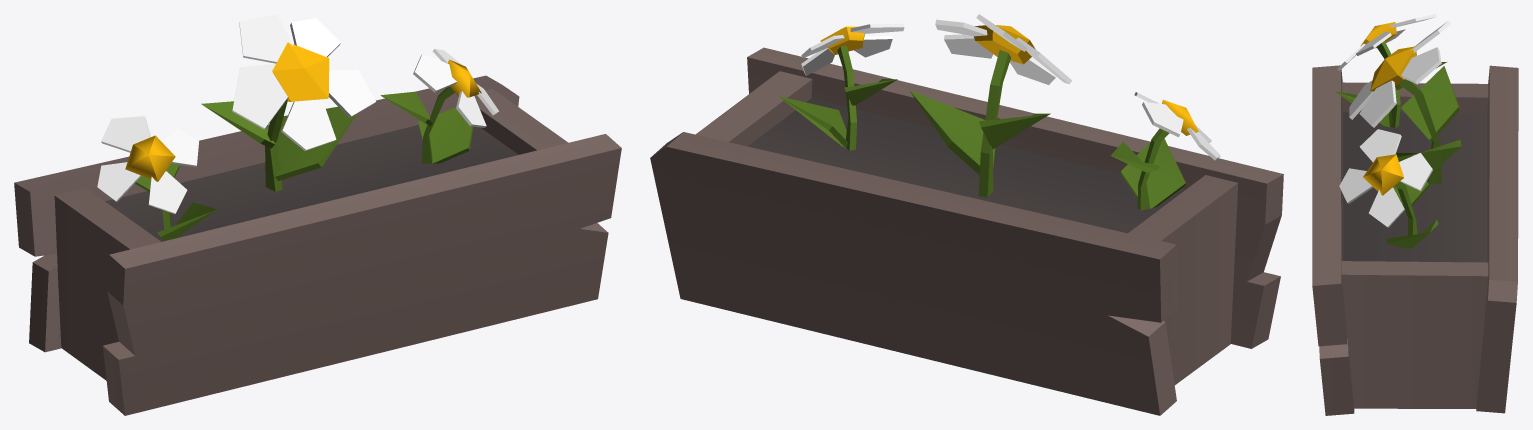
File: obj_flowers_white_d8ec0f.glb
The picture shows the model from 3 angles, left to right: view 1: azimuth 30°, elevation 25°; view 2: azimuth 150°, elevation 25°; view 3: azimuth 270°, elevation 25°; orthographic projection. The views are drawn at different scales.
Visible parts, largest first — view 1: obj_flowers_white_d8ec0f; view 2: obj_flowers_white_d8ec0f; view 3: obj_flowers_white_d8ec0f.
Part boxes in pixels (x1=…): obj_flowers_white_d8ec0f: x1=14, y1=14, x2=621, y2=415; obj_flowers_white_d8ec0f: x1=650, y1=14, x2=1283, y2=415; obj_flowers_white_d8ec0f: x1=1312, y1=14, x2=1518, y2=415.
Bounding box in the file's own units: 0.6 × 0.351 × 0.2391.
Materials: 1 (1 with a texture image).
